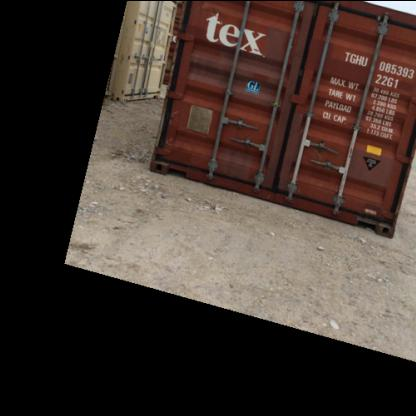Damage: (162, 103, 178, 129)
